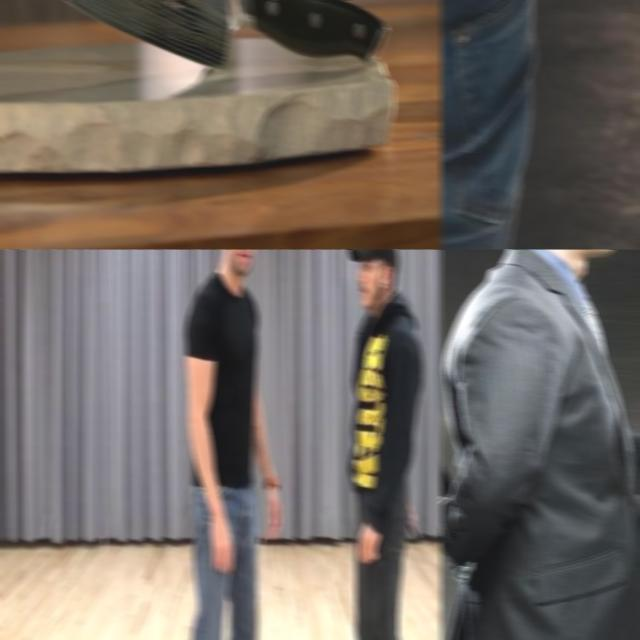Knife: (0, 0, 389, 67)
Knife_Handle: (407, 498, 421, 545)
